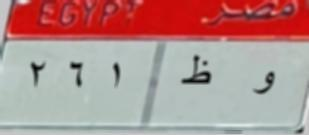1: (108, 59, 125, 92)
2: (26, 59, 50, 90)
6: (64, 59, 87, 91)
Thaa: (178, 50, 214, 92)
waw: (250, 60, 278, 100)
